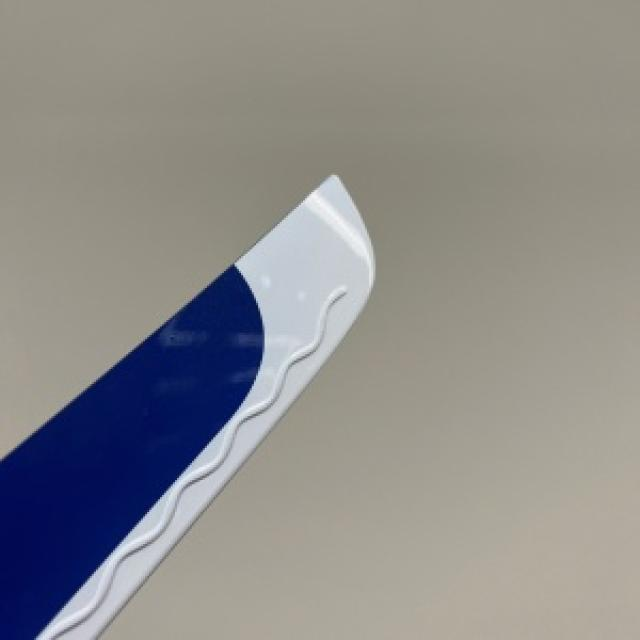healthy: (0, 173, 369, 638)
